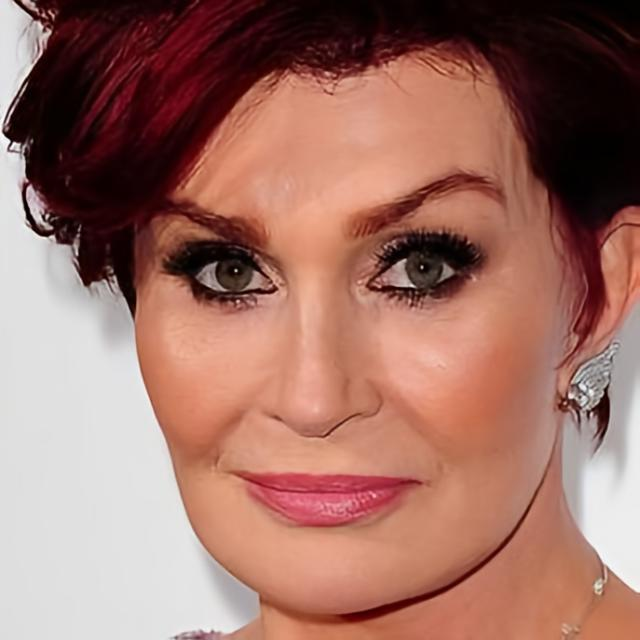content: (131, 34, 554, 618)
